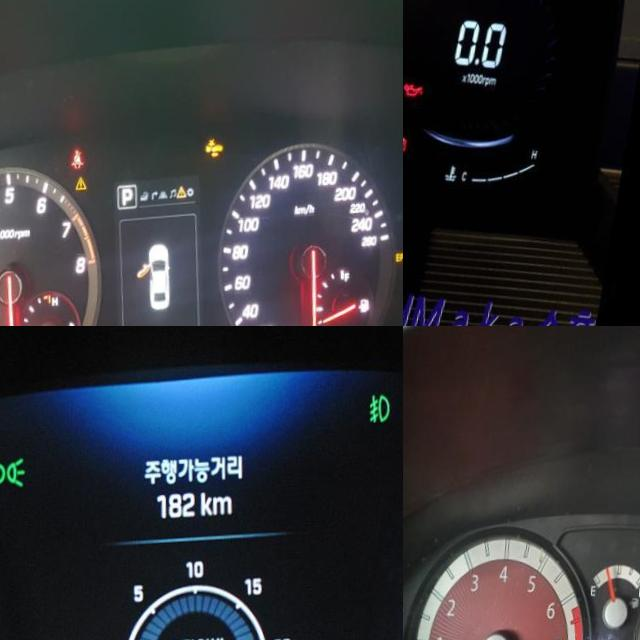Central Warning lamp: (75, 174, 88, 190)
FrontFogLight: (367, 391, 392, 424)
SideLamp: (0, 455, 27, 490)
